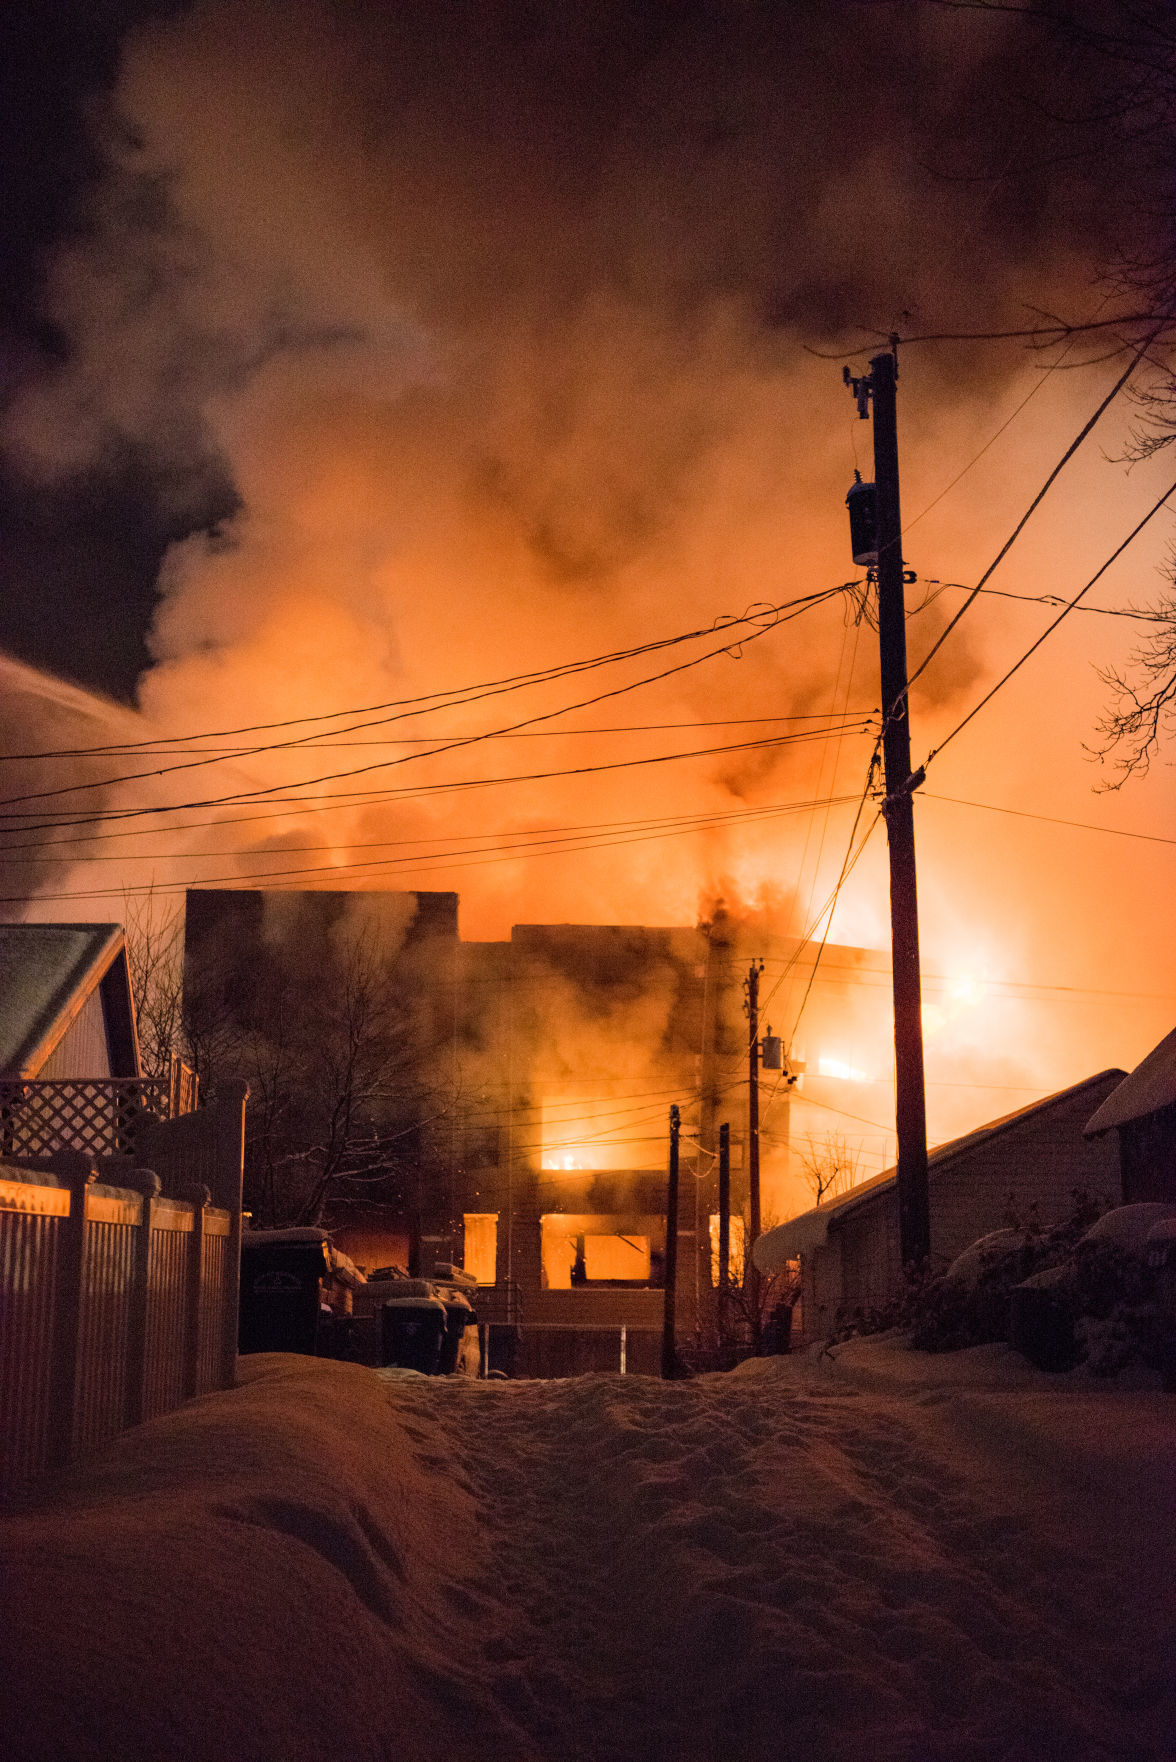Fire: (191, 485, 529, 678), (927, 831, 1042, 1109), (813, 880, 885, 1165), (533, 1023, 662, 1176)
